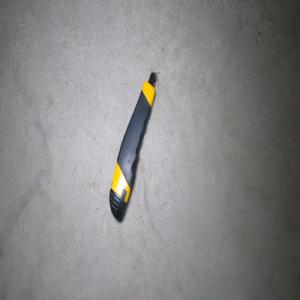Cutter: (108, 71, 157, 221)
